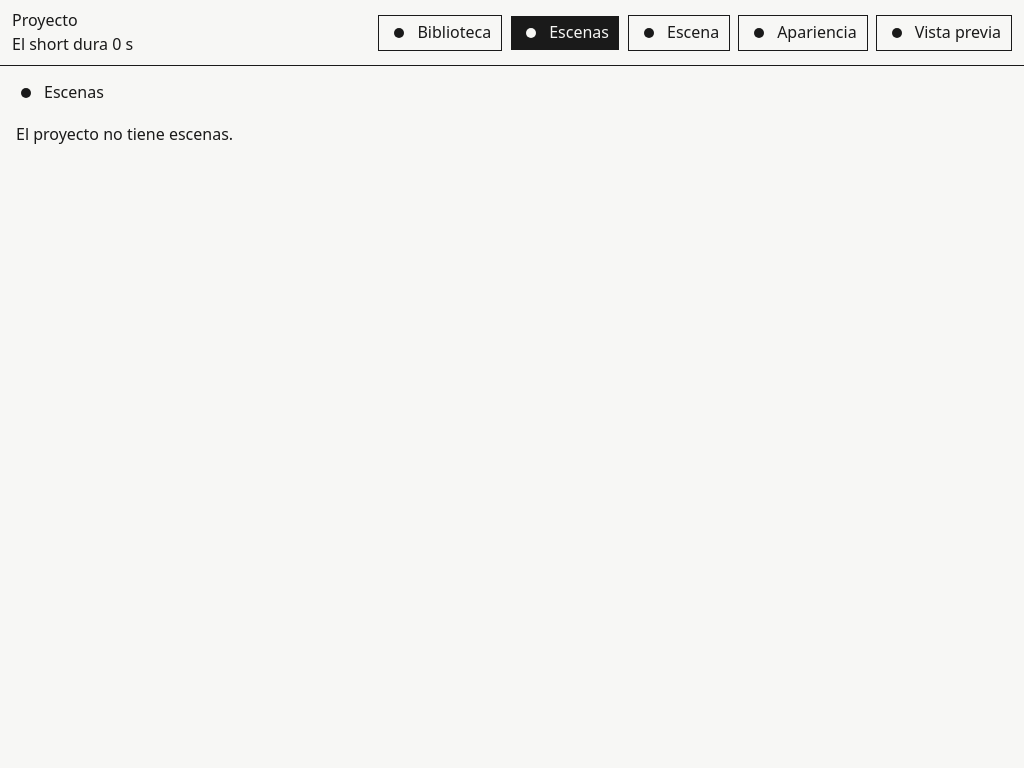
el panel agrupa la interfaz, las barras y las secciones con el feeling inicial
The image size is (1024, 768).
Click the button "Apariencia": click(803, 33) top-left (738, 15), bottom-right (868, 51)
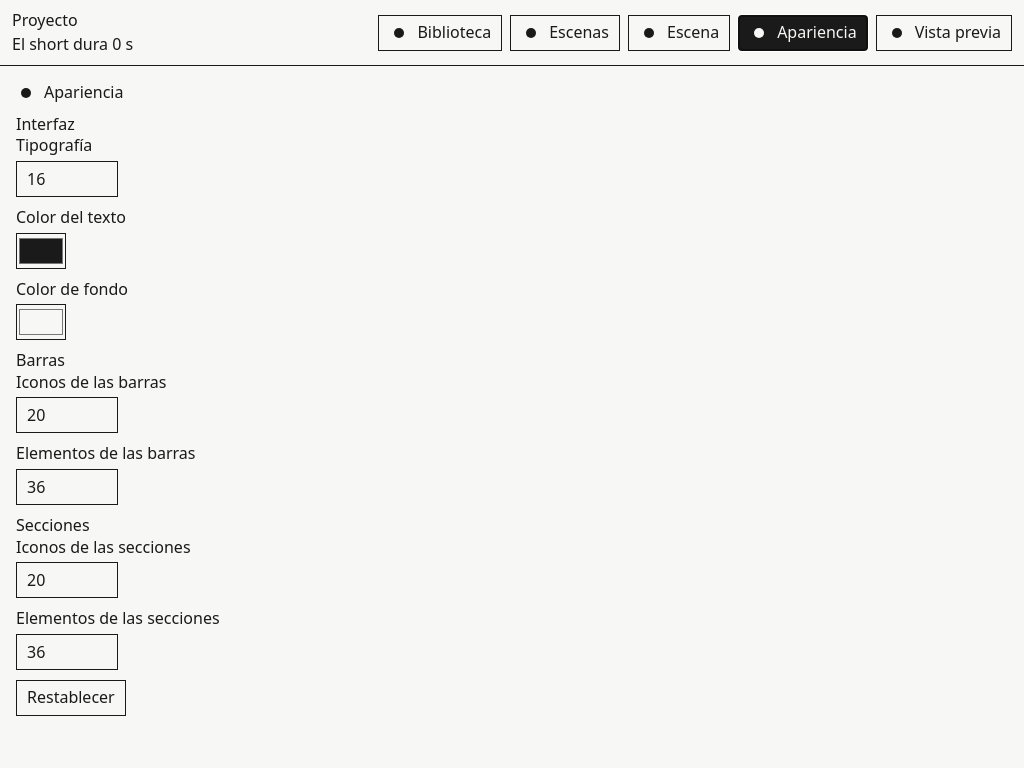
Check: the number field labelled "Tipografía" holds "16", box top-left (16, 161), bottom-right (118, 197)
Check: the colour field labelled "Color del texto" holds "#1a1a1a", box top-left (16, 233), bottom-right (66, 269)
Check: the colour field labelled "Color de fondo" holds "#f7f7f5", box top-left (16, 304), bottom-right (66, 340)
